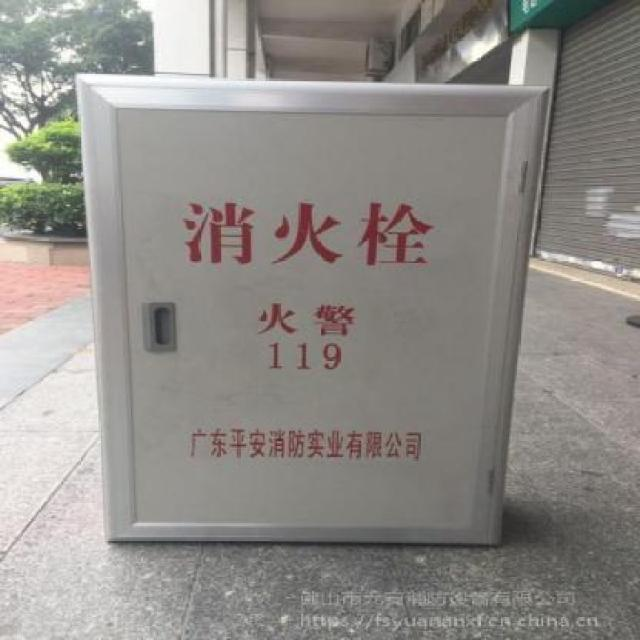firehydrant: (69, 68, 560, 554)
